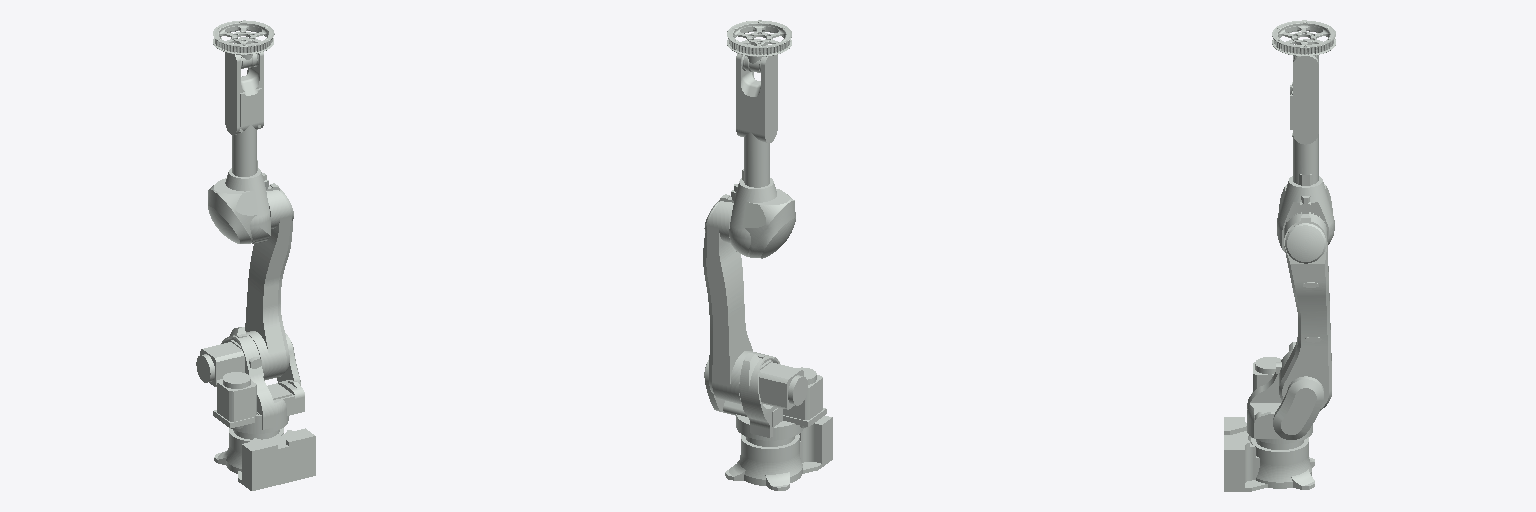
The robot description file, URDF, robot "kawasaki_rs010n":
<?xml version="1.0" encoding="utf-8"?>
<!-- =================================================================================== -->
<!-- |    This document was autogenerated by xacro from rs010n.xacro                   | -->
<!-- |    EDITING THIS FILE BY HAND IS NOT RECOMMENDED                                 | -->
<!-- =================================================================================== -->
<robot name="kawasaki_rs010n">
  <!-- Properties -->
  <material name="kawasaki_white">
    <color rgba="0.8392 0.8666 0.847 1"/>
  </material>
  <!-- link list -->
  <link name="base_link">
    <visual>
      <geometry>
        <mesh filename="./rs010n_meshes/base.stl"/>
      </geometry>
      <material name="kawasaki_white"/>
    </visual>
    <!-- <collision>
      <origin rpy="0 0 0" xyz="0 0 0.08"/>
      <geometry>
        <cylinder length="0.22" radius="0.2"/>
      </geometry>
    </collision> -->
  </link>
  <link name="link_1_s">
    <visual>
      <geometry>
        <mesh filename="./rs010n_meshes/swivel.stl"/>
      </geometry>
      <material name="kawasaki_white"/>
    </visual>
    <collision>
      <origin rpy="0 0 0" xyz="0 0 -0.08"/>
      <geometry>
        <cylinder length="0.35" radius="0.22"/>
      </geometry>
    </collision>
  </link>
  <link name="link_2_l">
    <visual>
      <geometry>
        <mesh filename="./rs010n_meshes/bicep.stl"/>
      </geometry>
      <material name="kawasaki_white"/>
    </visual>
    <collision>
      <origin rpy="0 0 0" xyz="0.08 0 0.35"/>
      <geometry>
        <cylinder length="0.8" radius="0.12"/>
      </geometry>
    </collision>
  </link>
  <link name="link_3_u">
    <visual>
      <geometry>
        <mesh filename="./rs010n_meshes/elbow.stl"/>
      </geometry>
      <material name="kawasaki_white"/>
    </visual>
    <collision>
      <origin rpy="0 0 0" xyz="-0.015 0 0.05"/>
      <geometry>
        <cylinder length="0.28" radius="0.139"/>
      </geometry>
    </collision>
  </link>
  <link name="link_4_r">
    <visual>
      <geometry>
        <mesh filename="./rs010n_meshes/forearm.stl"/>
      </geometry>
      <material name="kawasaki_white"/>
    </visual>
    <collision>
      <origin rpy="0 0 0" xyz="0 0 -0.235"/>
      <geometry>
        <cylinder length="0.5" radius="0.07"/>
      </geometry>
    </collision>
  </link>
  <link name="link_5_b">
    <visual>
      <geometry>
        <mesh filename="./rs010n_meshes/wrist.stl"/>
      </geometry>
      <material name="kawasaki_white"/>
    </visual>
    <collision>
      <origin rpy="0 0 0" xyz="0 0 0.01"/>
      <geometry>
        <cylinder length="0.1" radius="0.04"/>
      </geometry>
    </collision>
  </link>
  <link name="link_6_t">
    <visual>
      <origin rpy="0 0 0" xyz="0 0 0"/>
      <geometry>
        <mesh filename="./rs010n_meshes/tool_mount.stl"/>
      </geometry>
      <material name="kawasaki_white"/>
    </visual>
    <visual>
      <origin rpy="0 0 0" xyz="0 0 -0.01"/>
      <geometry>
        <mesh filename="./component_meshes/gear.stl" scale="0.001"/>
      </geometry>
      <material name="kawasaki_white">
        <color rgba="0.8392 0.8666 0.847 1"/>
      </material>
    </visual>

    <collision>
      <origin rpy="0 0 0" xyz="0 0 -0.01"/>
      <geometry>
        <cylinder length="0.02" radius="0.043"/>
      </geometry>
    </collision>
    <collision>
      <origin rpy="0 0 0" xyz="0 0 0.01"/>
      <geometry>
        <cylinder length="0.04" radius="0.13"/>
      </geometry>
    </collision>
  </link>
  <link name="tool0"/>
  <!-- end of link list -->
  <!-- joint list -->
  <joint name="joint_1_s" type="revolute">
    <parent link="base_link"/>
    <child link="link_1_s"/>
    <origin rpy="0 0 0" xyz="0 0 0.430"/>
    <axis xyz="0 0 1"/>
    <!-- Efforts are not accurate! -->
    <limit effort="1000.0" lower="-3.142" upper="3.142" velocity="4.363"/>
  </joint>
  <joint name="joint_2_l" type="revolute">
    <parent link="link_1_s"/>
    <child link="link_2_l"/>
    <origin rpy="0 0 0" xyz="0.0 0.1 0.0"/>
    <axis xyz="-1 0 0"/>
    <!-- Efforts are not accurate! -->
    <limit effort="1000.0" lower="-1.833" upper="2.531" velocity="4.363"/>
  </joint>
  <joint name="joint_3_u" type="revolute">
    <parent link="link_2_l"/>
    <child link="link_3_u"/>
    <origin rpy="0 0 0" xyz="0 0 0.65"/>
    <axis xyz="1 0 0"/>
    <!-- Efforts are not accurate! -->
    <limit effort="1000.0" lower="-2.845" upper="2.618" velocity="3.752"/>
  </joint>
  <joint name="joint_4_r" type="revolute">
    <parent link="link_3_u"/>
    <child link="link_4_r"/>
    <origin rpy="0 0 0" xyz="0.00 0 0.7"/>
    <axis xyz="0 0 1"/>
    <!-- Efforts are not accurate! -->
    <limit effort="1000.0" lower="-4.712" upper="4.712" velocity="6.370"/>
  </joint>
  <joint name="joint_5_b" type="revolute">
    <parent link="link_4_r"/>
    <child link="link_5_b"/>
    <origin rpy="0 0 0" xyz="0 0 0"/>
    <axis xyz="1 0 0"/>
    <!-- Efforts are not accurate! -->
    <limit effort="1000.0" lower="-2.531" upper="2.531" velocity="6.632"/>
  </joint>
  <joint name="joint_6_t" type="revolute">
    <parent link="link_5_b"/>
    <child link="link_6_t"/>
    <origin rpy="0 0 0" xyz="0 0 0.085"/>
    <axis xyz="0 0 1"/>
    <!-- Efforts are not accurate! -->
    <limit effort="1000.0" lower="-6.283" upper="6.283" velocity="12.217"/>
  </joint>
  <joint name="joint_6_t-tool0" type="fixed">
    <origin rpy="3.1415926 -1.570796 0" xyz="0.100 0 0"/>
    <parent link="link_6_t"/>
    <child link="tool0"/>
  </joint>
  <!-- end of joint list -->
</robot>

--- What the picture shows (computed from the rendered views, not written in the file) ---
The picture shows the robot from 3 angles, left to right: view 1: azimuth 30°, elevation 25°; view 2: azimuth 150°, elevation 25°; view 3: azimuth 270°, elevation 25°; orthographic projection.
Robot: kawasaki_rs010n — 8 links, 7 joints (6 revolute, 1 fixed); root link base_link; default pose: every joint at zero.
Links seen in each view (by area): view 1: link_1_s, link_2_l, base_link, link_4_r, link_3_u, link_6_t; view 2: link_2_l, link_1_s, base_link, link_4_r, link_3_u, link_6_t; view 3: link_2_l, link_1_s, base_link, link_4_r, link_3_u, link_6_t.
Link boxes in pixels (x1,y1,x2,y2): link_1_s: (196, 327, 304, 433); link_2_l: (245, 183, 293, 380); base_link: (214, 428, 315, 490); link_4_r: (225, 52, 263, 176); link_3_u: (208, 168, 270, 243); link_6_t: (213, 20, 274, 54); link_2_l: (703, 194, 756, 404); link_1_s: (704, 353, 826, 440); base_link: (725, 416, 832, 490); link_4_r: (736, 53, 777, 187); link_3_u: (729, 178, 795, 258); link_6_t: (727, 20, 791, 56); link_2_l: (1279, 213, 1331, 410); link_1_s: (1247, 342, 1323, 443); base_link: (1224, 417, 1314, 491); link_4_r: (1290, 55, 1318, 185); link_3_u: (1277, 176, 1334, 251); link_6_t: (1272, 20, 1335, 55).
Size in the robot's own frame: 0.401 by 0.439 by 1.9 metres.
Meshes: 8 distinct files referenced, 8 mesh visuals loaded (8 binary STL).